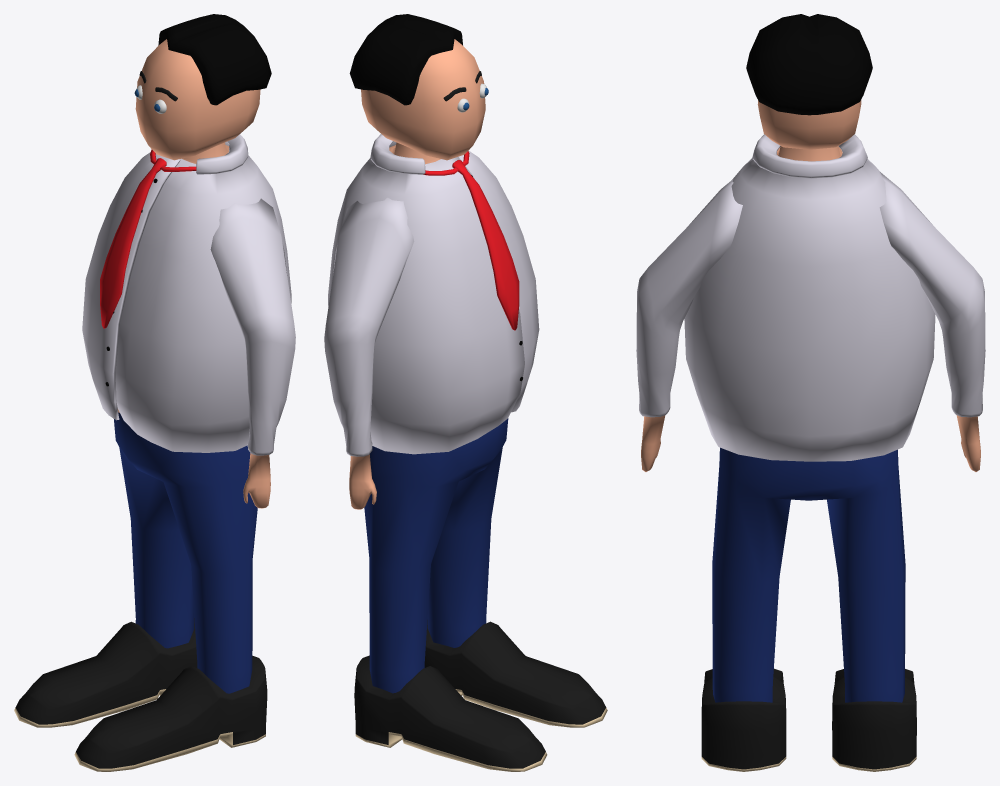
Rendered from karackter_model_pose_1.fbx.
The picture shows the model from 3 angles, left to right: view 1: azimuth 30°, elevation 25°; view 2: azimuth 150°, elevation 25°; view 3: azimuth 270°, elevation 25°; orthographic projection. The views are drawn at different scales.
Parts seen in each view (by area): view 1: Cube.079, Cube.078, Cube.084, Cube.083, Cube.085, Cube.076, Cube.080, Cube.077; view 2: Cube.079, Cube.078, Cube.086, Cube.085, Cube.083, Cube.076, Cube.080, Cube.077; view 3: Cube.079, Cube.078, Cube.086, Cube.084, Cube.080, Cube.083, Cube.085, Cube.076, Cube.075.
Boxes of the visible parts, bbox=[...] form: Cube.079: bbox=[82, 134, 291, 452]; Cube.078: bbox=[114, 412, 257, 693]; Cube.084: bbox=[210, 198, 295, 508]; Cube.083: bbox=[74, 655, 267, 771]; Cube.085: bbox=[14, 618, 197, 727]; Cube.076: bbox=[135, 39, 260, 160]; Cube.080: bbox=[158, 14, 271, 105]; Cube.077: bbox=[100, 158, 166, 328]; Cube.079: bbox=[328, 134, 539, 454]; Cube.078: bbox=[364, 418, 508, 693]; Cube.086: bbox=[324, 197, 414, 509]; Cube.085: bbox=[354, 655, 547, 771]; Cube.083: bbox=[424, 620, 607, 727]; Cube.076: bbox=[361, 39, 485, 160]; Cube.080: bbox=[349, 14, 462, 105]; Cube.077: bbox=[452, 160, 519, 330]; Cube.079: bbox=[684, 134, 935, 461]; Cube.078: bbox=[712, 447, 905, 702]; Cube.086: bbox=[879, 172, 985, 471]; Cube.084: bbox=[636, 179, 742, 471]; Cube.080: bbox=[746, 14, 872, 115]; Cube.083: bbox=[701, 668, 786, 771]; Cube.085: bbox=[832, 669, 916, 771]; Cube.076: bbox=[757, 100, 861, 149]; Cube.075: bbox=[776, 146, 842, 161].
Size of the model in its own units: 257 by 730 by 314.
